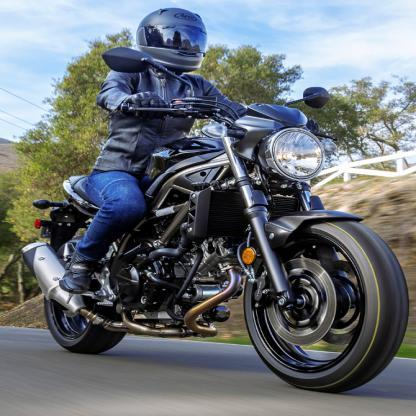helmet: (135, 7, 209, 72)
